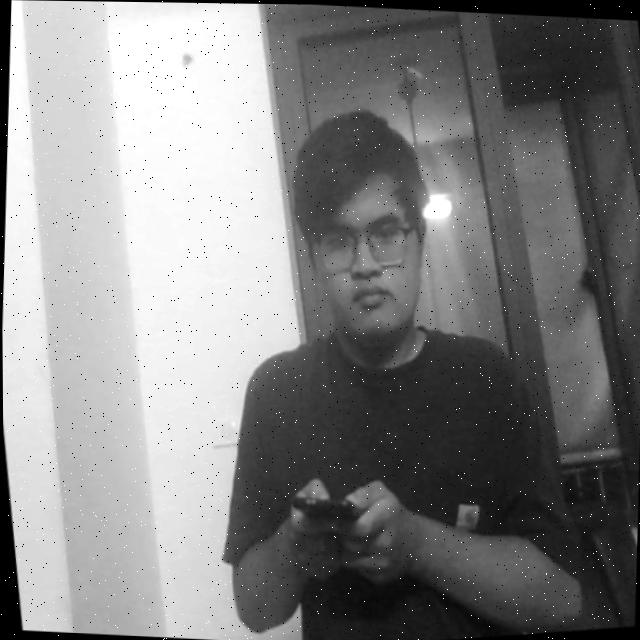phone: (279, 463, 392, 561)
